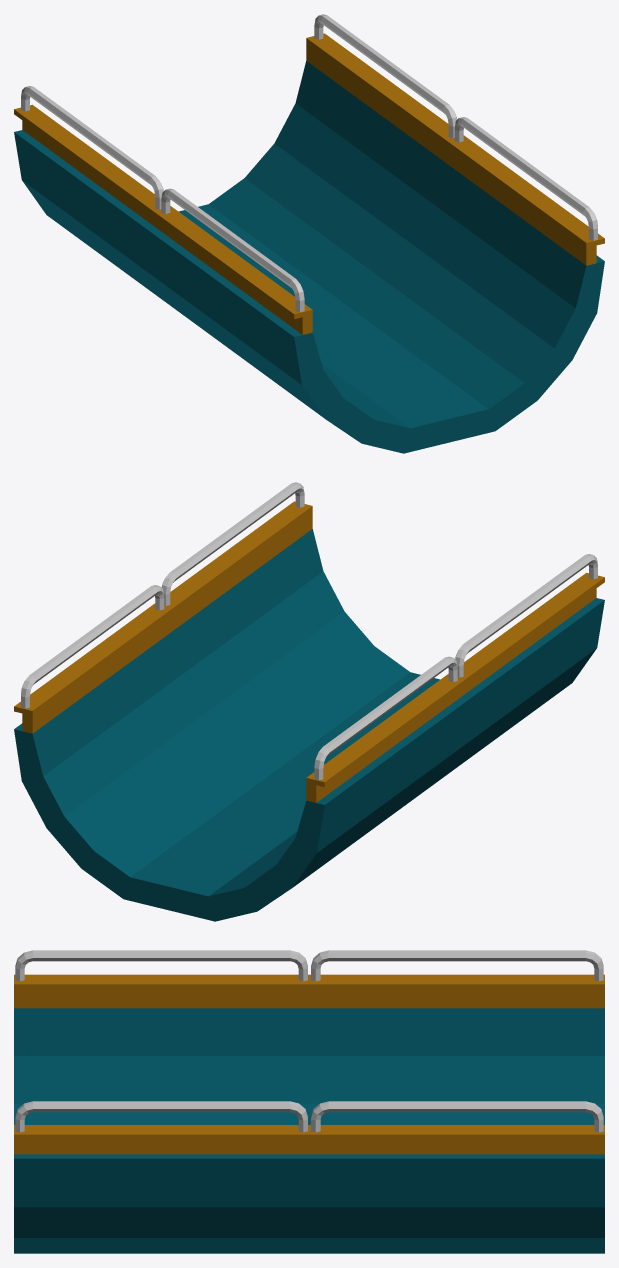
Rendered from halfpipe-straight_s.FBX.
The picture shows the model from 3 angles, top to bottom: view 1: azimuth 30°, elevation 25°; view 2: azimuth 150°, elevation 25°; view 3: azimuth 270°, elevation 25°; orthographic projection. The views are drawn at different scales.
Parts seen in each view (by area): view 1: halfpipe-straight_s, wall_l, wall_r; view 2: halfpipe-straight_s, wall_l, wall_r; view 3: halfpipe-straight_s, wall_r, wall_l.
Part boxes in pixels (x1,y1,x2,y2): halfpipe-straight_s: (14, 61, 604, 453); wall_l: (306, 14, 604, 265); wall_r: (14, 86, 312, 334); halfpipe-straight_s: (14, 529, 604, 921); wall_l: (14, 482, 312, 733); wall_r: (306, 554, 604, 802); halfpipe-straight_s: (14, 1008, 604, 1253); wall_r: (14, 950, 604, 1008); wall_l: (14, 1101, 604, 1154).
Size of what is drawn, in the model's own units: 128 by 200 by 75.73.
